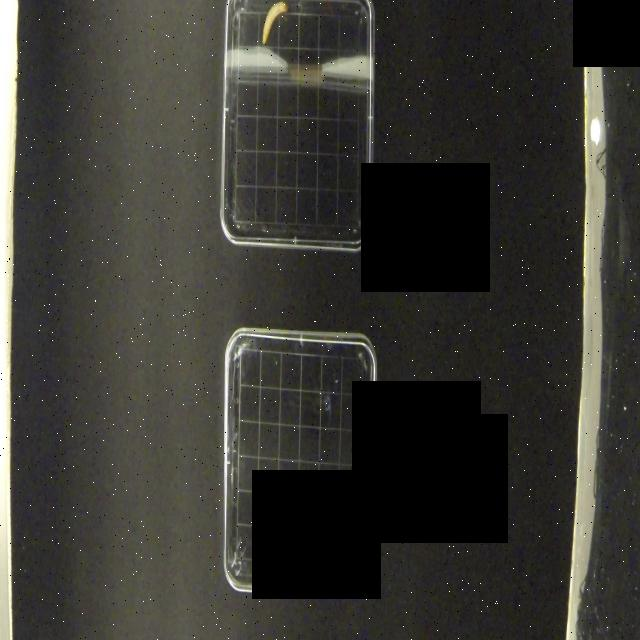larva: (261, 0, 288, 48), (350, 516, 369, 562)
